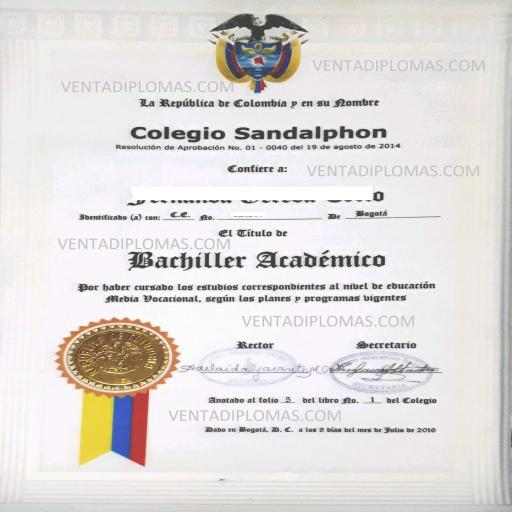bachillerato: (118, 241, 393, 274)
diploma: (0, 0, 510, 512), (197, 8, 320, 98)
firma: (170, 329, 327, 382), (329, 334, 451, 386)
institucion: (118, 119, 404, 148)
